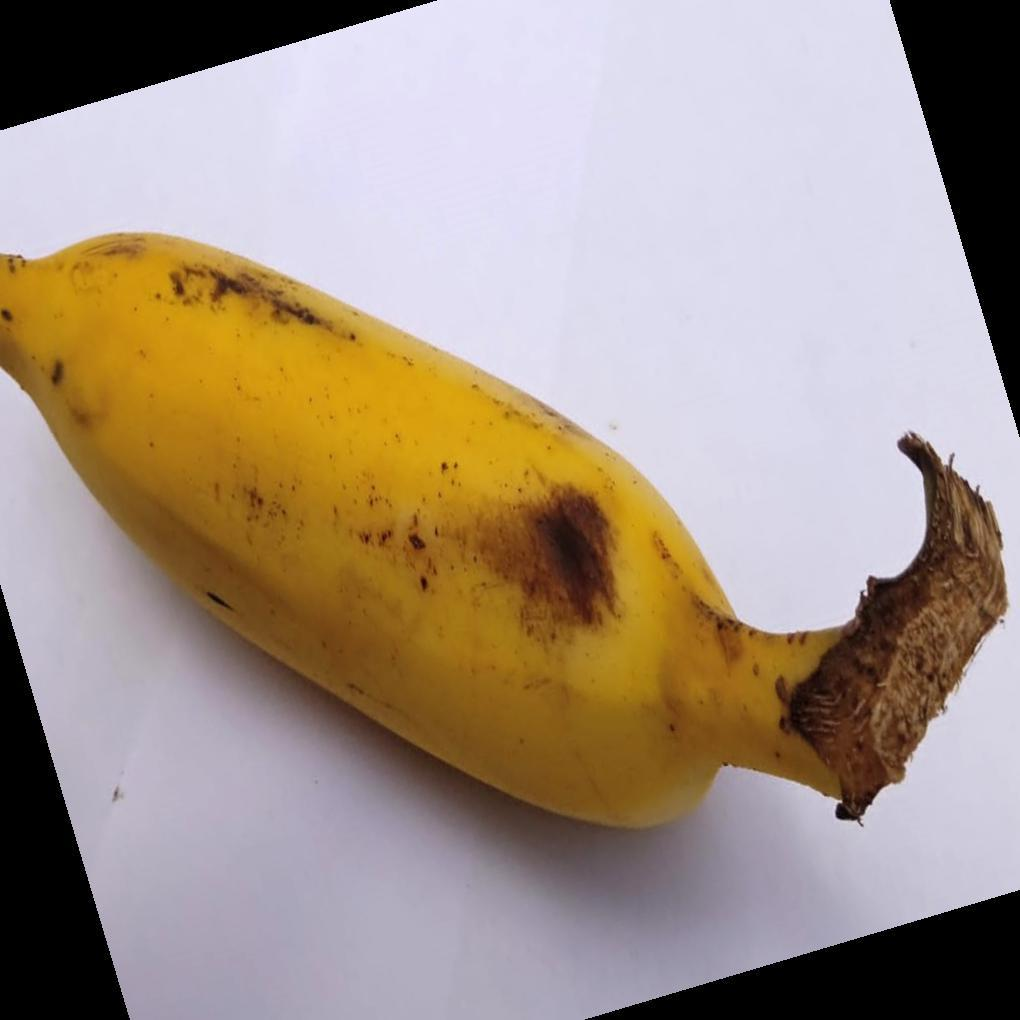Banana Ripe: (6, 227, 1020, 894)
